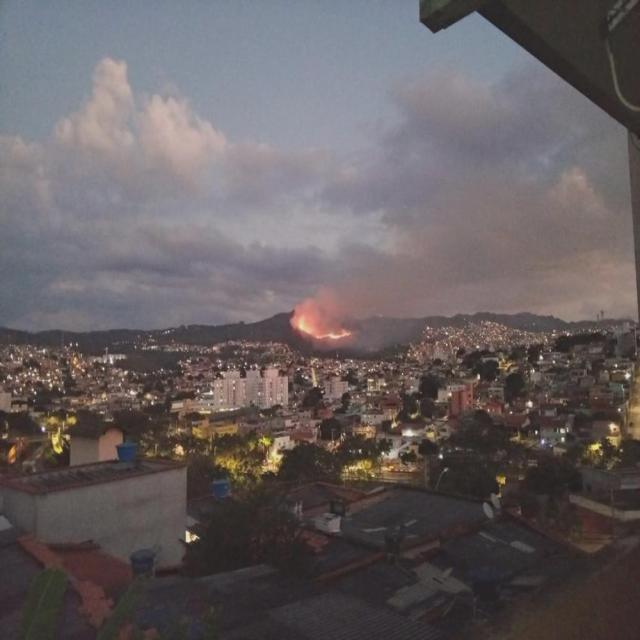Fire: (315, 330, 350, 340), (297, 318, 311, 334)
